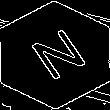N_SE: (21, 23, 89, 87)
